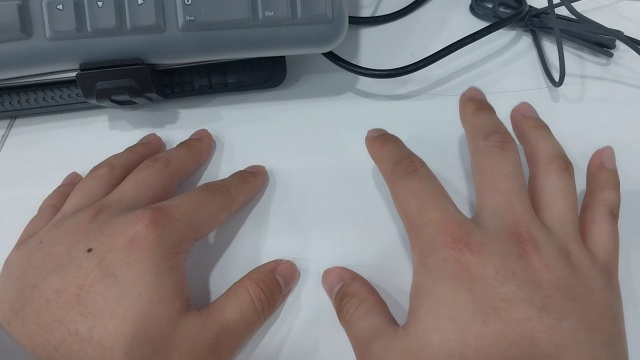fingers: (274, 258, 301, 296), (321, 266, 345, 307), (598, 145, 617, 172), (516, 100, 539, 117), (463, 85, 486, 101), (60, 170, 79, 187), (189, 127, 211, 141), (137, 131, 159, 144), (242, 163, 267, 174), (367, 127, 389, 138)
